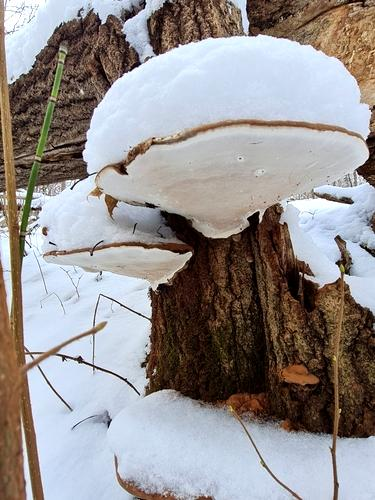Ganoderma - Fruit Body: (97, 118, 372, 238), (39, 240, 198, 288)
